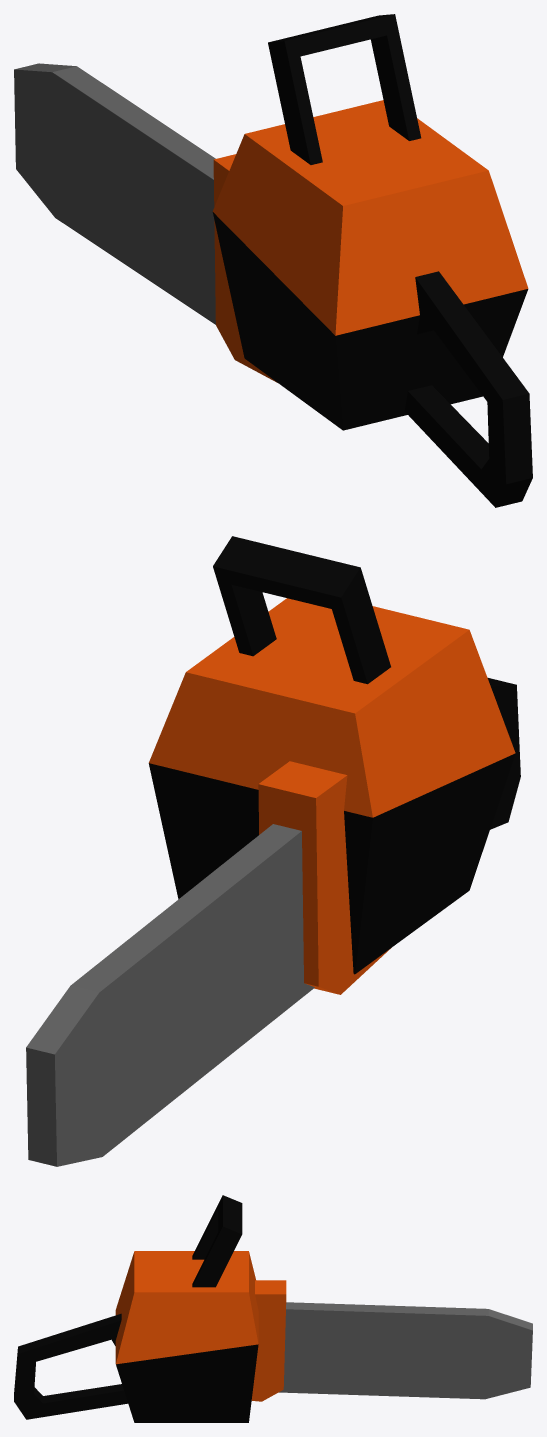
File: chainsaw.glb
3 renders of one model, top to bottom at view 1: azimuth 30°, elevation 25°; view 2: azimuth 150°, elevation 25°; view 3: azimuth 270°, elevation 25°, orthographic. The views are drawn at different scales.
Visible parts, largest first — view 1: Cube, Cube.004, Cube.001, Cube.003, Cube.002; view 2: Cube, Cube.004, Cube.002, Cube.003, Cube.001; view 3: Cube.004, Cube, Cube.001, Cube.002, Cube.003.
Part boxes in pixels (left/top/right/bottom): Cube: left=212, top=100, right=528, bottom=430; Cube.004: left=14, top=63, right=215, bottom=324; Cube.001: left=404, top=271, right=532, bottom=507; Cube.003: left=268, top=14, right=421, bottom=164; Cube.002: left=213, top=154, right=277, bottom=382; Cube: left=148, top=598, right=515, bottom=974; Cube.004: left=26, top=824, right=314, bottom=1166; Cube.002: left=258, top=761, right=390, bottom=994; Cube.003: left=213, top=536, right=390, bottom=684; Cube.001: left=487, top=678, right=520, bottom=829; Cube.004: left=279, top=1302, right=532, bottom=1399; Cube: left=115, top=1251, right=258, bottom=1422; Cube.001: left=14, top=1313, right=127, bottom=1419; Cube.002: left=251, top=1280, right=286, bottom=1401; Cube.003: left=192, top=1195, right=242, bottom=1287.
Bounding box in the file's own units: 1.03 × 1.81 × 4.14.
